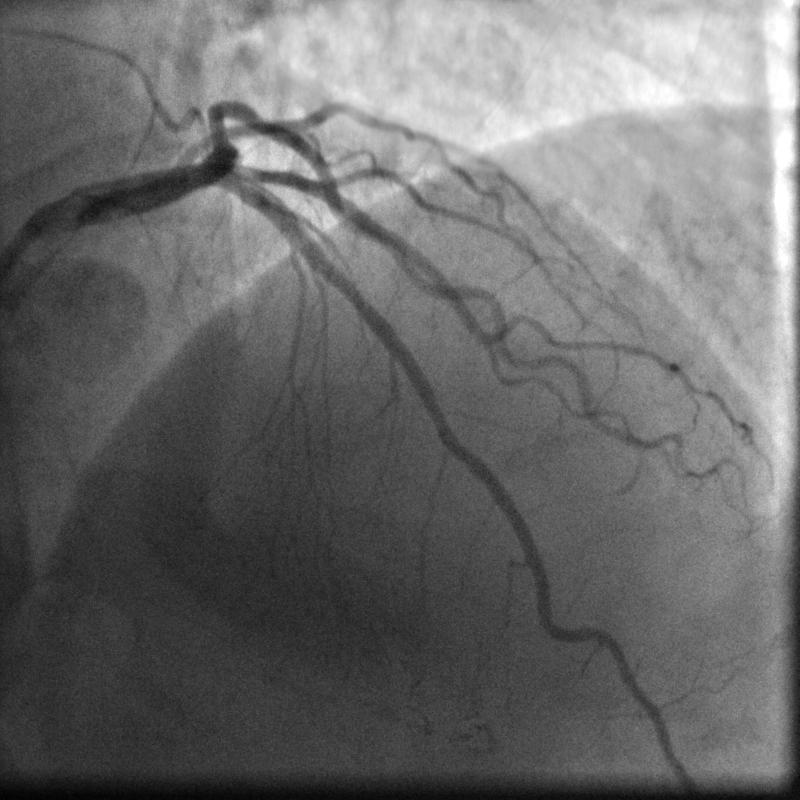Stenosis: (443, 405, 468, 471)
